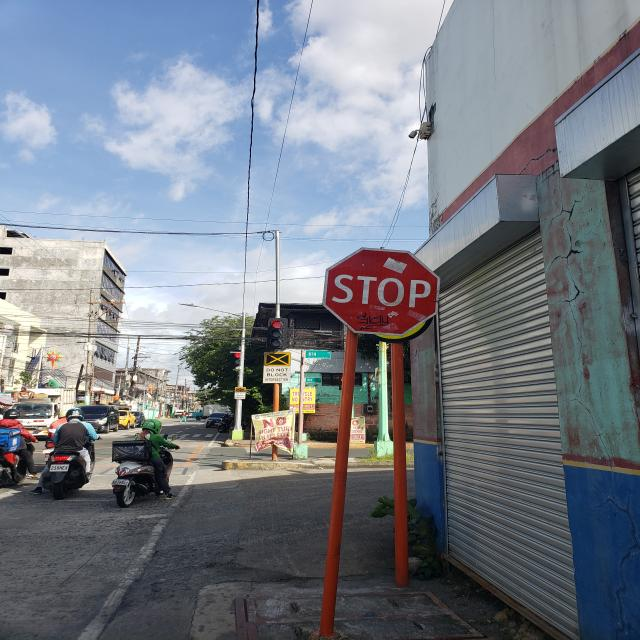stop-sign: (322, 246, 442, 336)
